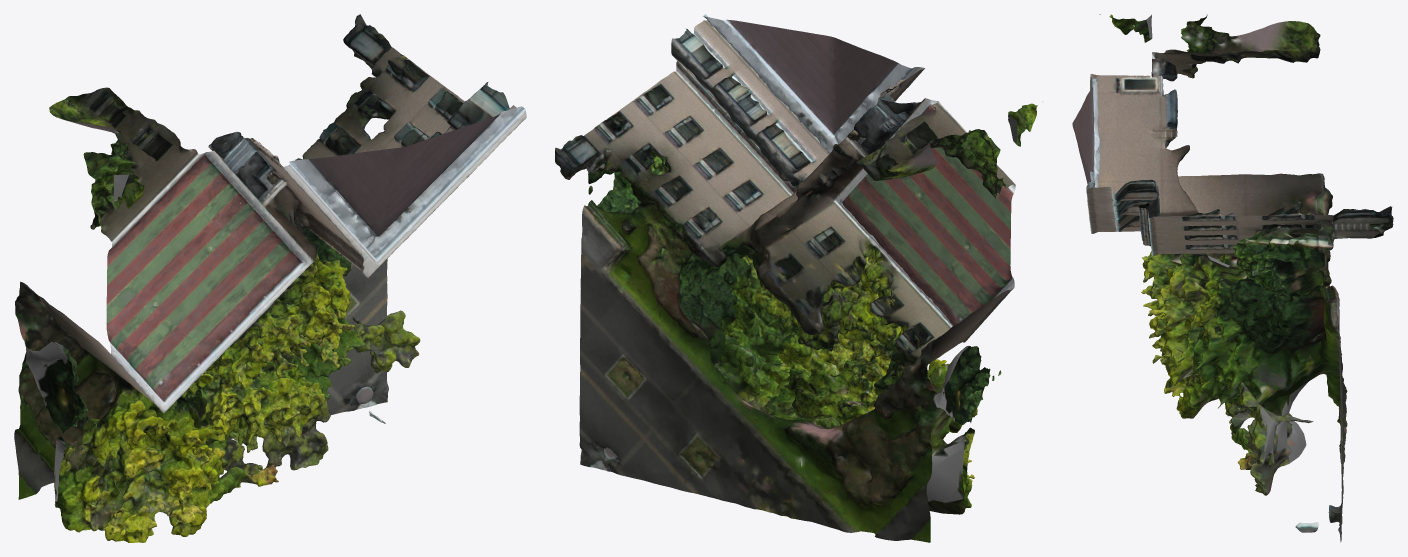
The model's file is Tile_+008_+022.fbx.
3 renders of one model, left to right at view 1: azimuth 30°, elevation 25°; view 2: azimuth 150°, elevation 25°; view 3: azimuth 270°, elevation 25°, orthographic. The views are drawn at different scales.
Parts seen in each view (by area): view 1: DefaultName; view 2: DefaultName; view 3: DefaultName.
Part boxes in pixels (x1,y1,x2,y2): DefaultName: (14, 14, 526, 542); DefaultName: (555, 14, 1037, 542); DefaultName: (1072, 14, 1393, 542).
Bounding box in the file's own units: 22.54 × 22.54 × 18.18.
